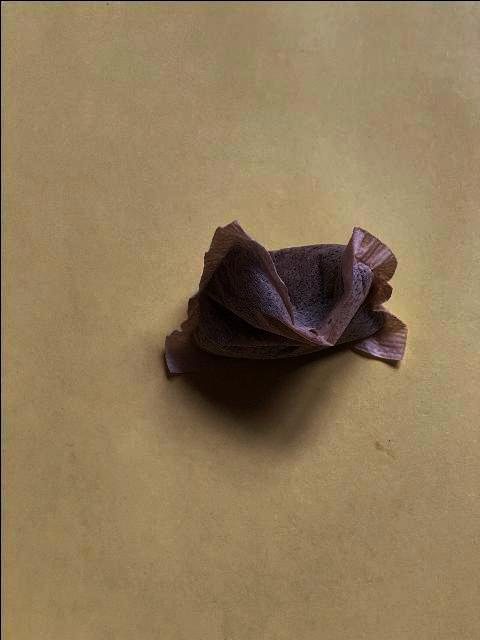teabag: (162, 219, 406, 373)
